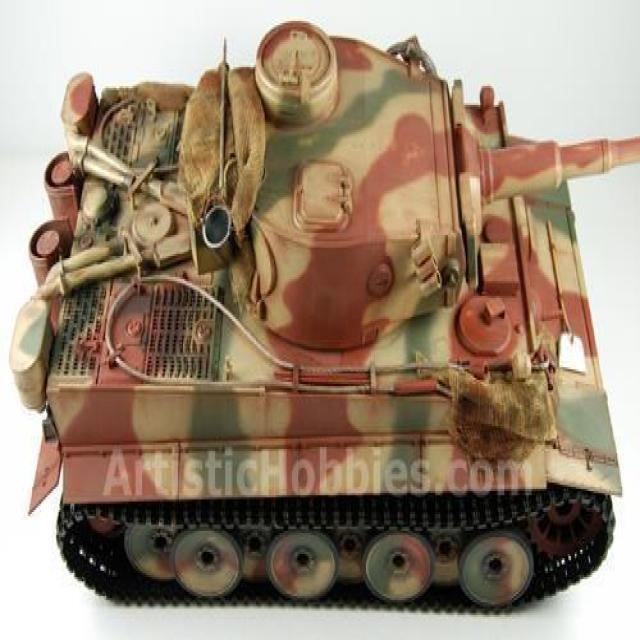MIL_MBT: (13, 10, 632, 617)
